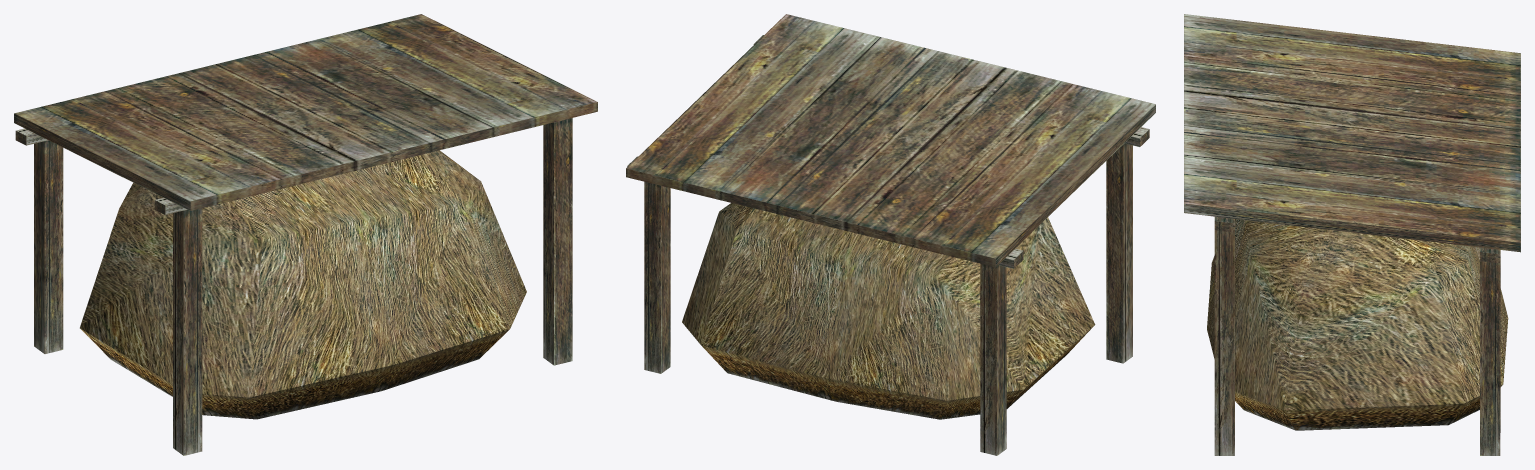
Rendered from seno1.glb.
3 renders of one model, left to right at view 1: azimuth 30°, elevation 25°; view 2: azimuth 150°, elevation 25°; view 3: azimuth 270°, elevation 25°, orthographic. The views are drawn at different scales.
Visible parts, largest first — view 1: seno1; view 2: seno1; view 3: seno1.
Part boxes in pixels (bbox=[...]): seno1: bbox=[14, 14, 597, 455]; seno1: bbox=[626, 14, 1155, 455]; seno1: bbox=[1184, 14, 1520, 455].
Size of the model in its own units: 4.6 by 2.77 by 3.3.
Materials: 3 (3 with a texture image).
